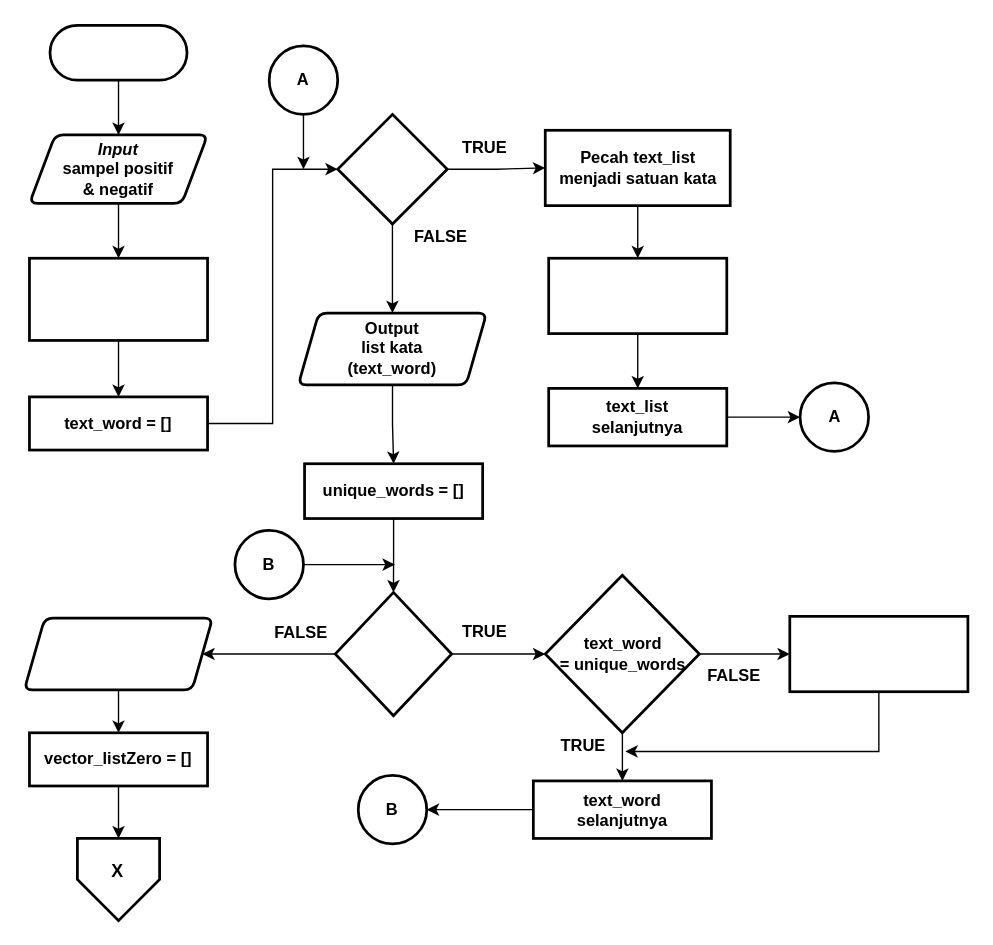
Some shapes in this 993 by 945 pixel diagram are drawn without their labels. Here are the shapes that lost their labels. From the top down, the centre of each, then its label:
At (x=118, y=52): "START".
At (x=392, y=168): "text_list != null".
At (x=117, y=298): "Select data latih sebanyak input sampel (text_list)".
At (x=637, y=295): "Tampung ke dalam text_word".
At (x=117, y=653): "Output fitur kata ( unique_words )".
At (x=392, y=653): "text_word != null".
At (x=878, y=653): "Tampung ke dalam unique_words".
